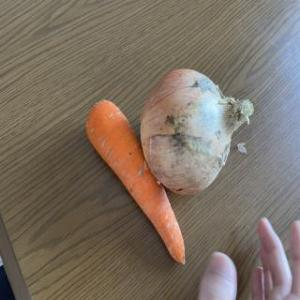carrot: (76, 98, 188, 268)
onion: (136, 67, 254, 195)
